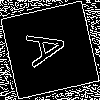A: (25, 25, 77, 70)
